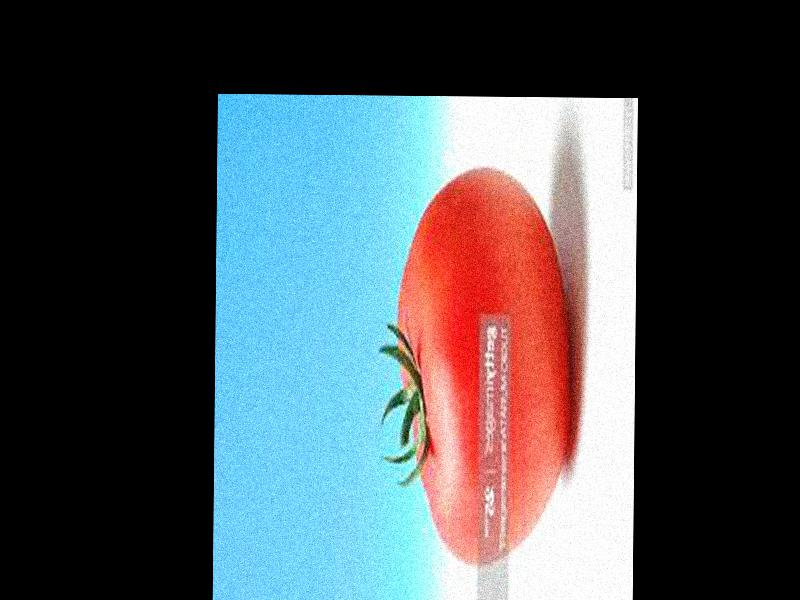Tomato: (395, 169, 570, 569)
